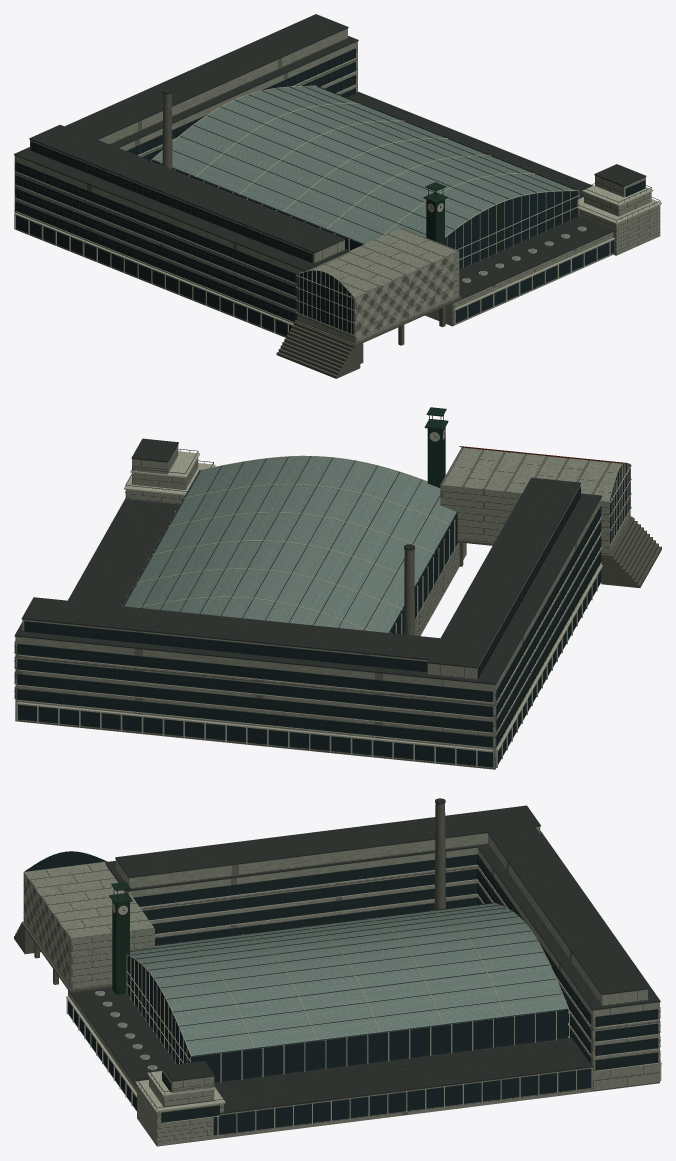
The picture shows the model from 3 angles, top to bottom: view 1: azimuth 30°, elevation 25°; view 2: azimuth 150°, elevation 25°; view 3: azimuth 270°, elevation 25°; orthographic projection. The views are drawn at different scales.
Visible parts, largest first — view 1: beurs-coolsingel-5, beurs-coolsingel-2, beurs-coolsingel-1, beurs-coolsingel-0, beurs-coolsingel-3, beurs-coolsingel-4, beurs-coolsingel-6, beurs-coolsingel-9, beurs-coolsingel-8, beurs-coolsingel-10; view 2: beurs-coolsingel-2, beurs-coolsingel-5, beurs-coolsingel-1, beurs-coolsingel-0, beurs-coolsingel-3, beurs-coolsingel-4, beurs-coolsingel-6, beurs-coolsingel-10, beurs-coolsingel-9; view 3: beurs-coolsingel-5, beurs-coolsingel-2, beurs-coolsingel-1, beurs-coolsingel-0, beurs-coolsingel-4, beurs-coolsingel-3, beurs-coolsingel-9, beurs-coolsingel-10, beurs-coolsingel-6, beurs-coolsingel-8.
Boxes of the visible parts, left/top/right/bottom form: beurs-coolsingel-5: left=152, top=86, right=585, bottom=281; beurs-coolsingel-2: left=15, top=48, right=645, bottom=335; beurs-coolsingel-1: left=14, top=14, right=646, bottom=303; beurs-coolsingel-0: left=14, top=28, right=660, bottom=343; beurs-coolsingel-3: left=14, top=58, right=661, bottom=335; beurs-coolsingel-4: left=15, top=49, right=660, bottom=320; beurs-coolsingel-6: left=276, top=296, right=461, bottom=378; beurs-coolsingel-9: left=162, top=93, right=454, bottom=335; beurs-coolsingel-8: left=356, top=255, right=454, bottom=338; beurs-coolsingel-10: left=423, top=182, right=447, bottom=244; beurs-coolsingel-2: left=14, top=463, right=630, bottom=767; beurs-coolsingel-5: left=123, top=456, right=456, bottom=632; beurs-coolsingel-1: left=14, top=438, right=601, bottom=684; beurs-coolsingel-0: left=15, top=445, right=630, bottom=769; beurs-coolsingel-3: left=14, top=429, right=631, bottom=767; beurs-coolsingel-4: left=14, top=432, right=601, bottom=747; beurs-coolsingel-6: left=457, top=516, right=661, bottom=587; beurs-coolsingel-10: left=424, top=407, right=448, bottom=487; beurs-coolsingel-9: left=404, top=549, right=414, bottom=635; beurs-coolsingel-5: left=96, top=903, right=568, bottom=1068; beurs-coolsingel-2: left=24, top=851, right=660, bottom=1135; beurs-coolsingel-1: left=70, top=798, right=660, bottom=1114; beurs-coolsingel-0: left=23, top=826, right=659, bottom=1146; beurs-coolsingel-4: left=113, top=855, right=660, bottom=1122; beurs-coolsingel-3: left=23, top=851, right=661, bottom=1135; beurs-coolsingel-9: left=24, top=803, right=445, bottom=976; beurs-coolsingel-10: left=109, top=882, right=132, bottom=994; beurs-coolsingel-6: left=14, top=921, right=112, bottom=992; beurs-coolsingel-8: left=24, top=875, right=68, bottom=980.
Bounding box in the file's own units: 139 × 38.35 × 148.
11 materials, 11 textured.
